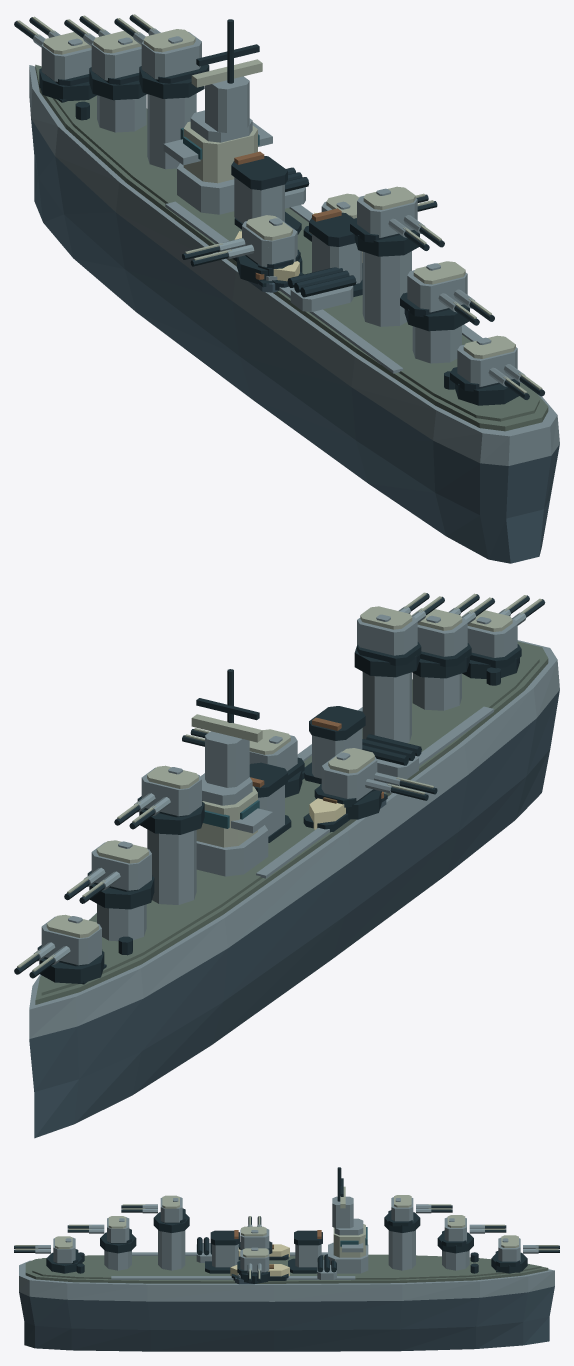
File: historic-atlanta.glb
3 renders of one model, top to bottom at view 1: azimuth 30°, elevation 25°; view 2: azimuth 150°, elevation 25°; view 3: azimuth 270°, elevation 25°, orthographic. The views are drawn at different scales.
Parts seen in each view (by area): view 1: historic-atlanta-historic-atlanta-geometry, historic-atlanta-part_bridge.097-geometry, historic-atlanta-turret_main_4.011-geometry, historic-atlanta-turret_main_3.035-geometry, historic-atlanta-turret_main_2.057-geometry, historic-atlanta-turret_main_5.005-geometry, historic-atlanta-turret_main_6.003-geometry, historic-atlanta-turret_main_1.064-geometry, historic-atlanta-turret_main_0.068-geometry, historic-atlanta-historic_funnel_0.095-geometry, historic-atlanta-historic_funnel_1.049-geometry, historic-atlanta-torpedo_bank_0.025-geometry (+2 smaller); view 2: historic-atlanta-historic-atlanta-geometry, historic-atlanta-part_bridge.097-geometry, historic-atlanta-turret_main_3.035-geometry, historic-atlanta-turret_main_6.003-geometry, historic-atlanta-turret_main_1.064-geometry, historic-atlanta-turret_main_0.068-geometry, historic-atlanta-turret_main_2.057-geometry, historic-atlanta-turret_main_4.011-geometry, historic-atlanta-turret_main_5.005-geometry, historic-atlanta-historic_funnel_1.049-geometry, historic-atlanta-turret_main_7.003-geometry, historic-atlanta-historic_funnel_0.095-geometry (+1 smaller); view 3: historic-atlanta-historic-atlanta-geometry, historic-atlanta-part_bridge.097-geometry, historic-atlanta-turret_main_1.064-geometry, historic-atlanta-turret_main_4.011-geometry, historic-atlanta-turret_main_2.057-geometry, historic-atlanta-turret_main_3.035-geometry, historic-atlanta-turret_main_0.068-geometry, historic-atlanta-turret_main_5.005-geometry, historic-atlanta-historic_funnel_1.049-geometry, historic-atlanta-historic_funnel_0.095-geometry, historic-atlanta-turret_main_7.003-geometry, historic-atlanta-turret_main_6.003-geometry (+2 smaller).
Boxes of the visible parts, x1=… form: historic-atlanta-historic-atlanta-geometry: x1=29, y1=64, x2=559, y2=563; historic-atlanta-part_bridge.097-geometry: x1=163, y1=19, x2=272, y2=214; historic-atlanta-turret_main_4.011-geometry: x1=400, y1=261, x2=494, y2=331; historic-atlanta-turret_main_3.035-geometry: x1=350, y1=186, x2=444, y2=256; historic-atlanta-turret_main_2.057-geometry: x1=114, y1=14, x2=209, y2=98; historic-atlanta-turret_main_5.005-geometry: x1=450, y1=335, x2=544, y2=405; historic-atlanta-turret_main_6.003-geometry: x1=182, y1=215, x2=302, y2=284; historic-atlanta-turret_main_1.064-geometry: x1=64, y1=15, x2=146, y2=100; historic-atlanta-turret_main_0.068-geometry: x1=14, y1=16, x2=96, y2=101; historic-atlanta-historic_funnel_0.095-geometry: x1=231, y1=151, x2=301, y2=234; historic-atlanta-historic_funnel_1.049-geometry: x1=309, y1=208, x2=362, y2=296; historic-atlanta-torpedo_bank_0.025-geometry: x1=287, y1=267, x2=356, y2=311; historic-atlanta-historic-atlanta-geometry: x1=29, y1=640, x2=559, y2=1138; historic-atlanta-part_bridge.097-geometry: x1=191, y1=669, x2=272, y2=876; historic-atlanta-turret_main_3.035-geometry: x1=354, y1=592, x2=444, y2=677; historic-atlanta-turret_main_6.003-geometry: x1=314, y1=748, x2=437, y2=819; historic-atlanta-turret_main_1.064-geometry: x1=64, y1=840, x2=154, y2=909; historic-atlanta-turret_main_0.068-geometry: x1=14, y1=914, x2=104, y2=983; historic-atlanta-turret_main_2.057-geometry: x1=114, y1=765, x2=204, y2=834; historic-atlanta-turret_main_4.011-geometry: x1=411, y1=593, x2=494, y2=678; historic-atlanta-turret_main_5.005-geometry: x1=461, y1=595, x2=545, y2=678; historic-atlanta-historic_funnel_1.049-geometry: x1=303, y1=706, x2=365, y2=783; historic-atlanta-turret_main_7.003-geometry: x1=182, y1=728, x2=304, y2=797; historic-atlanta-historic_funnel_0.095-geometry: x1=249, y1=762, x2=291, y2=842; historic-atlanta-historic-atlanta-geometry: x1=19, y1=1230, x2=554, y2=1351; historic-atlanta-part_bridge.097-geometry: x1=328, y1=1167, x2=368, y2=1273; historic-atlanta-turret_main_1.064-geometry: x1=437, y1=1215, x2=506, y2=1253; historic-atlanta-turret_main_4.011-geometry: x1=67, y1=1216, x2=136, y2=1253; historic-atlanta-turret_main_2.057-geometry: x1=384, y1=1195, x2=452, y2=1232; historic-atlanta-turret_main_3.035-geometry: x1=121, y1=1195, x2=189, y2=1232; historic-atlanta-turret_main_0.068-geometry: x1=491, y1=1235, x2=559, y2=1273; historic-atlanta-turret_main_5.005-geometry: x1=14, y1=1236, x2=82, y2=1273; historic-atlanta-historic_funnel_1.049-geometry: x1=205, y1=1230, x2=239, y2=1273; historic-atlanta-historic_funnel_0.095-geometry: x1=288, y1=1230, x2=322, y2=1273; historic-atlanta-turret_main_7.003-geometry: x1=237, y1=1247, x2=269, y2=1283; historic-atlanta-turret_main_6.003-geometry: x1=240, y1=1216, x2=272, y2=1253.
Bounding box in the file's own units: 1.21 × 1.54 × 4.4.
